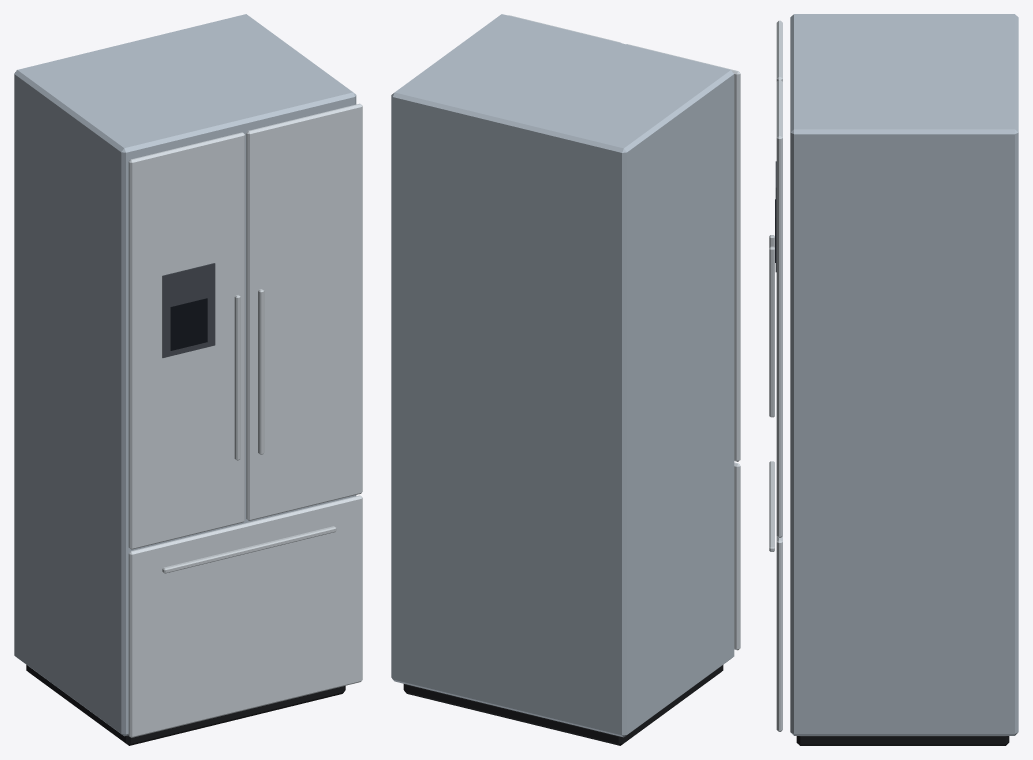
Rendered from fridge_large.glb.
3 views of the same model, side by side, from view 1: azimuth 30°, elevation 25°; view 2: azimuth 150°, elevation 25°; view 3: azimuth 270°, elevation 25° (orthographic). The views are drawn at different scales.
Visible parts, largest first — view 1: fridge_large_Body; view 2: fridge_large_Body; view 3: fridge_large_Body.
Boxes of the visible parts, left/top/right/bottom form: fridge_large_Body: left=14, top=14, right=362, bottom=745; fridge_large_Body: left=391, top=14, right=740, bottom=745; fridge_large_Body: left=769, top=14, right=1018, bottom=745.
Size of the model in its own units: 0.9 by 2.2 by 0.8.
